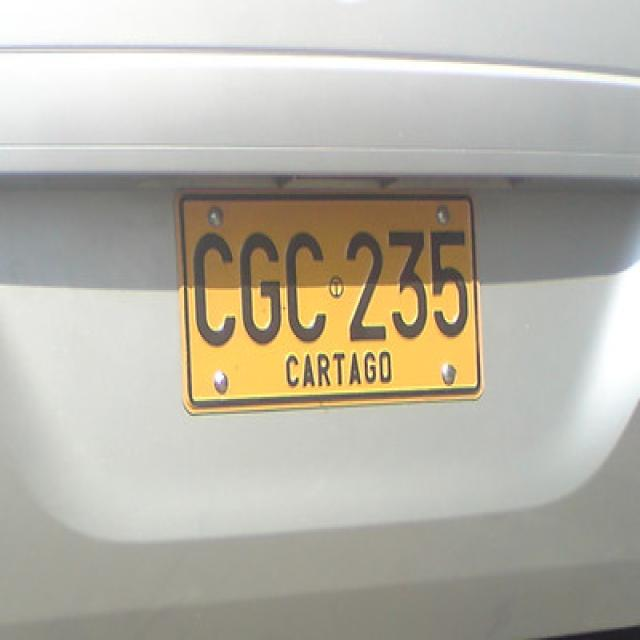placa_carro: (164, 156, 495, 455)
